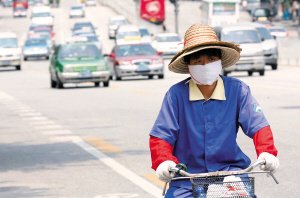Mask: (186, 53, 223, 87)
